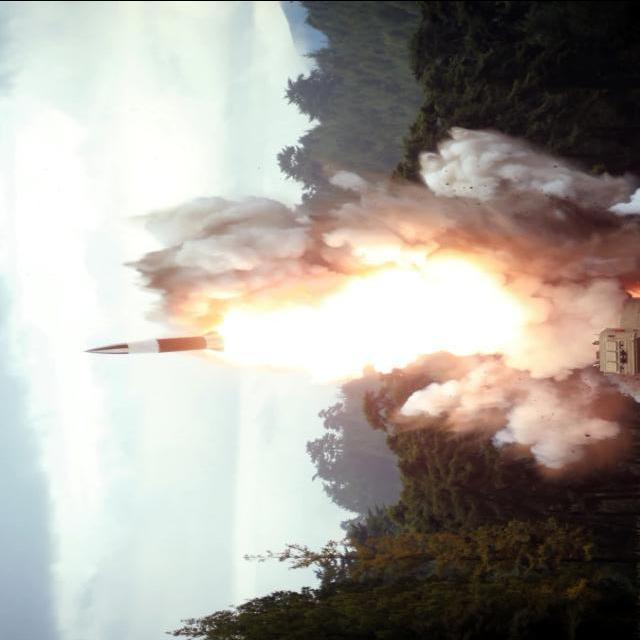missile: (86, 334, 225, 358)
